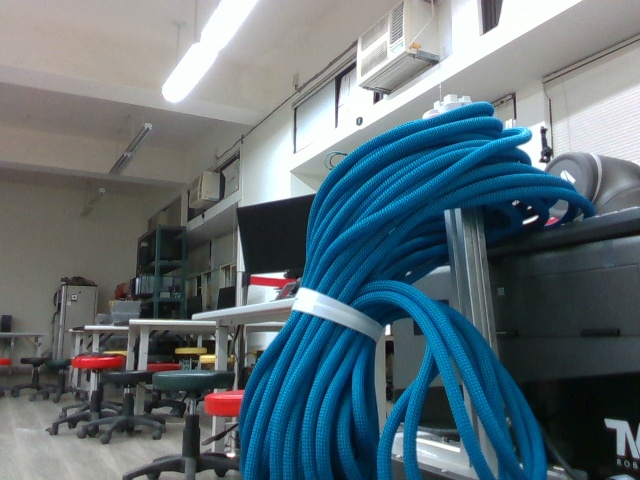rope: (232, 98, 548, 480)
